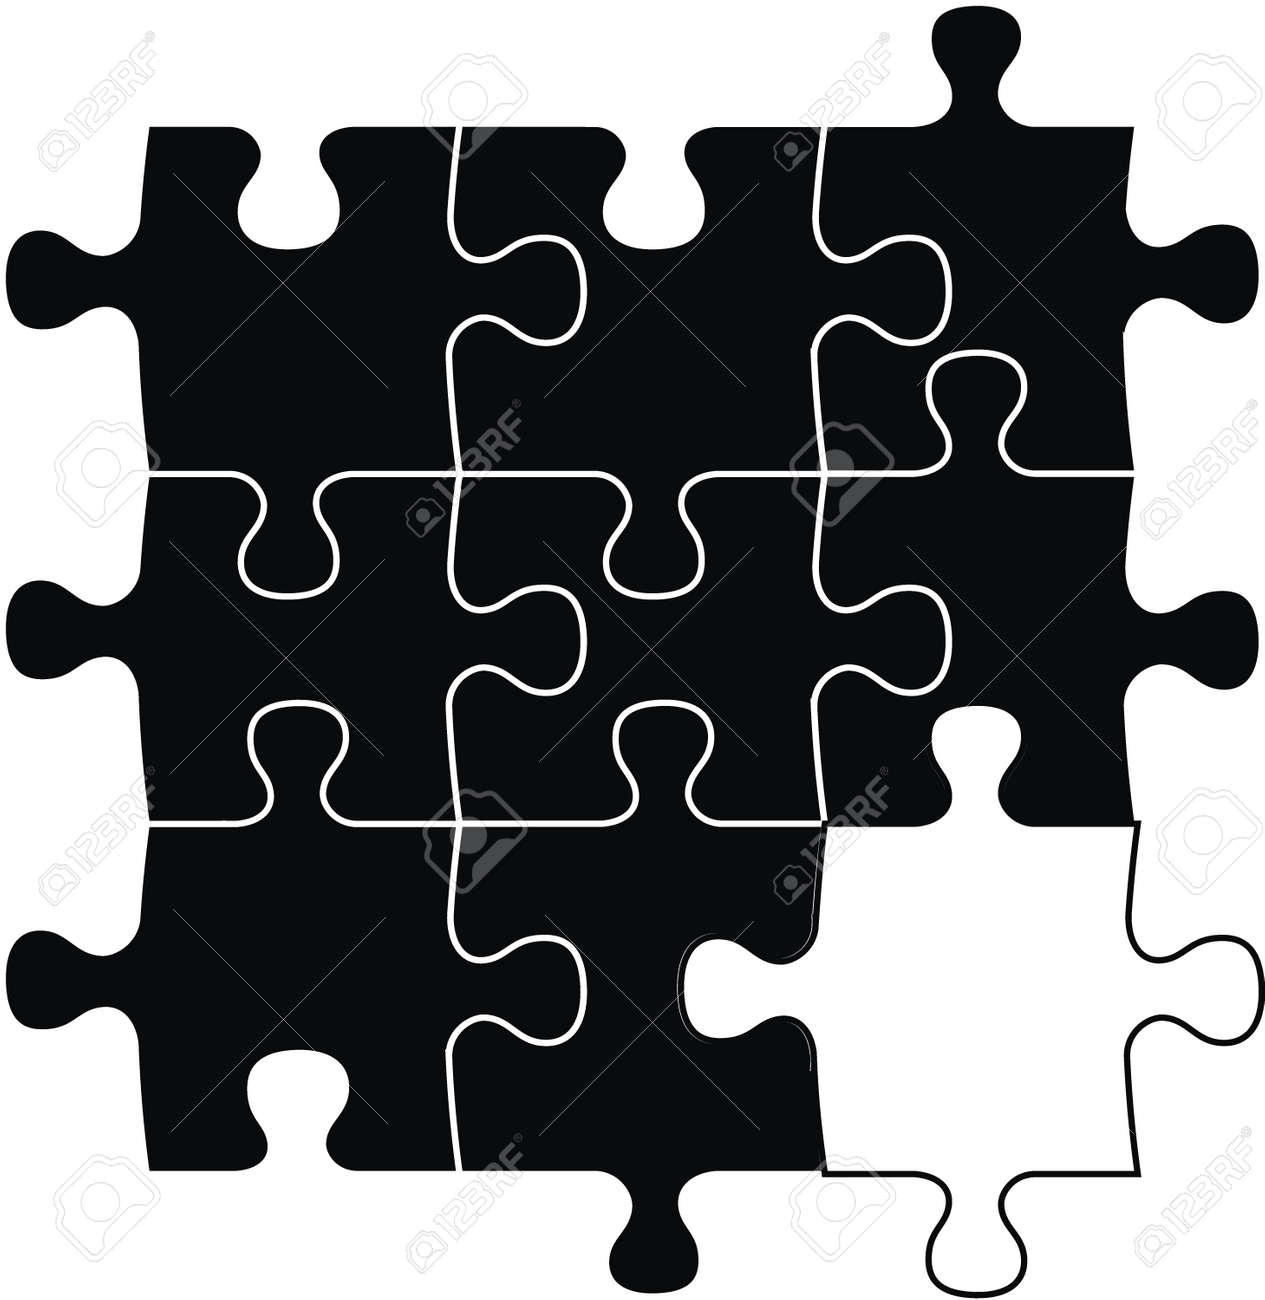puzzle piece: (695, 682, 1265, 1300)
